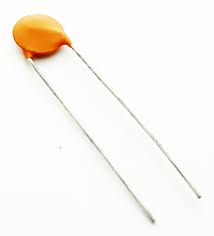ceramic capacitor: (7, 5, 100, 97)
